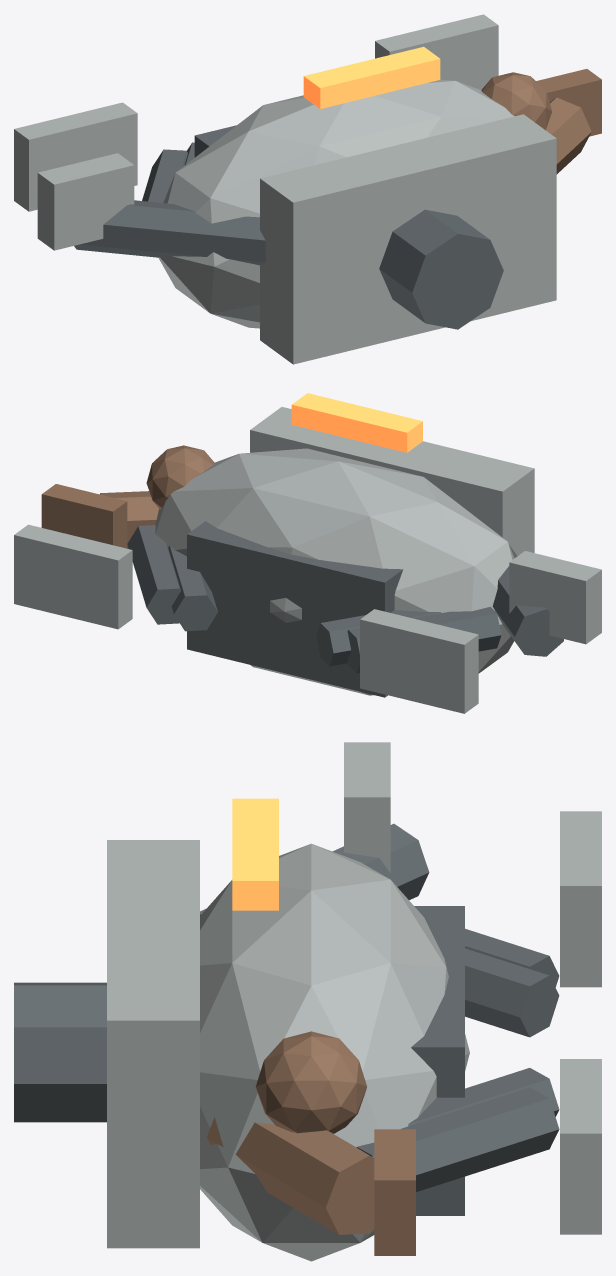
Rendered from scrapper-damaged-m0-v2.glb.
3 renders of one model, top to bottom at view 1: azimuth 30°, elevation 25°; view 2: azimuth 150°, elevation 25°; view 3: azimuth 270°, elevation 25°, orthographic. The views are drawn at different scales.
Parts seen in each view (by area): view 1: Scrapper_ShellAssembly, Scrapper_Torso, Scrapper_JointAssembly, Scrapper_HostileEye, Scrapper_DamageCore, Scrapper_LooseForearmPlate, Scrapper_DamagedArm; view 2: Scrapper_ShellAssembly, Scrapper_Torso, Scrapper_JointAssembly, Scrapper_HostileEye, Scrapper_LooseForearmPlate, Scrapper_DamageCore, Scrapper_DamagedArm; view 3: Scrapper_ShellAssembly, Scrapper_Torso, Scrapper_JointAssembly, Scrapper_DamagedArm, Scrapper_DamageCore, Scrapper_LooseForearmPlate, Scrapper_HostileEye.
Part boxes in pixels (<box>): Scrapper_ShellAssembly: <box>14,14,556,364</box>; Scrapper_Torso: <box>158,79,514,328</box>; Scrapper_JointAssembly: <box>74,125,503,329</box>; Scrapper_HostileEye: <box>303,46,440,108</box>; Scrapper_DamageCore: <box>481,72,552,129</box>; Scrapper_LooseForearmPlate: <box>536,69,601,136</box>; Scrapper_DamagedArm: <box>546,97,591,174</box>; Scrapper_ShellAssembly: <box>14,407,601,713</box>; Scrapper_Torso: <box>155,448,514,695</box>; Scrapper_JointAssembly: <box>127,521,563,697</box>; Scrapper_HostileEye: <box>291,393,422,452</box>; Scrapper_LooseForearmPlate: <box>41,484,127,548</box>; Scrapper_DamageCore: <box>146,445,214,509</box>; Scrapper_DamagedArm: <box>100,491,159,548</box>; Scrapper_ShellAssembly: <box>107,742,601,1248</box>; Scrapper_Torso: <box>200,843,469,1261</box>; Scrapper_JointAssembly: <box>14,823,559,1215</box>; Scrapper_DamagedArm: <box>207,1117,374,1234</box>; Scrapper_DamageCore: <box>255,1031,367,1133</box>; Scrapper_LooseForearmPlate: <box>374,1129,415,1255</box>; Scrapper_HostileEye: <box>232,798,278,910</box>.
Bounding box in the file's own units: 1.95 × 0.89 × 1.26.
